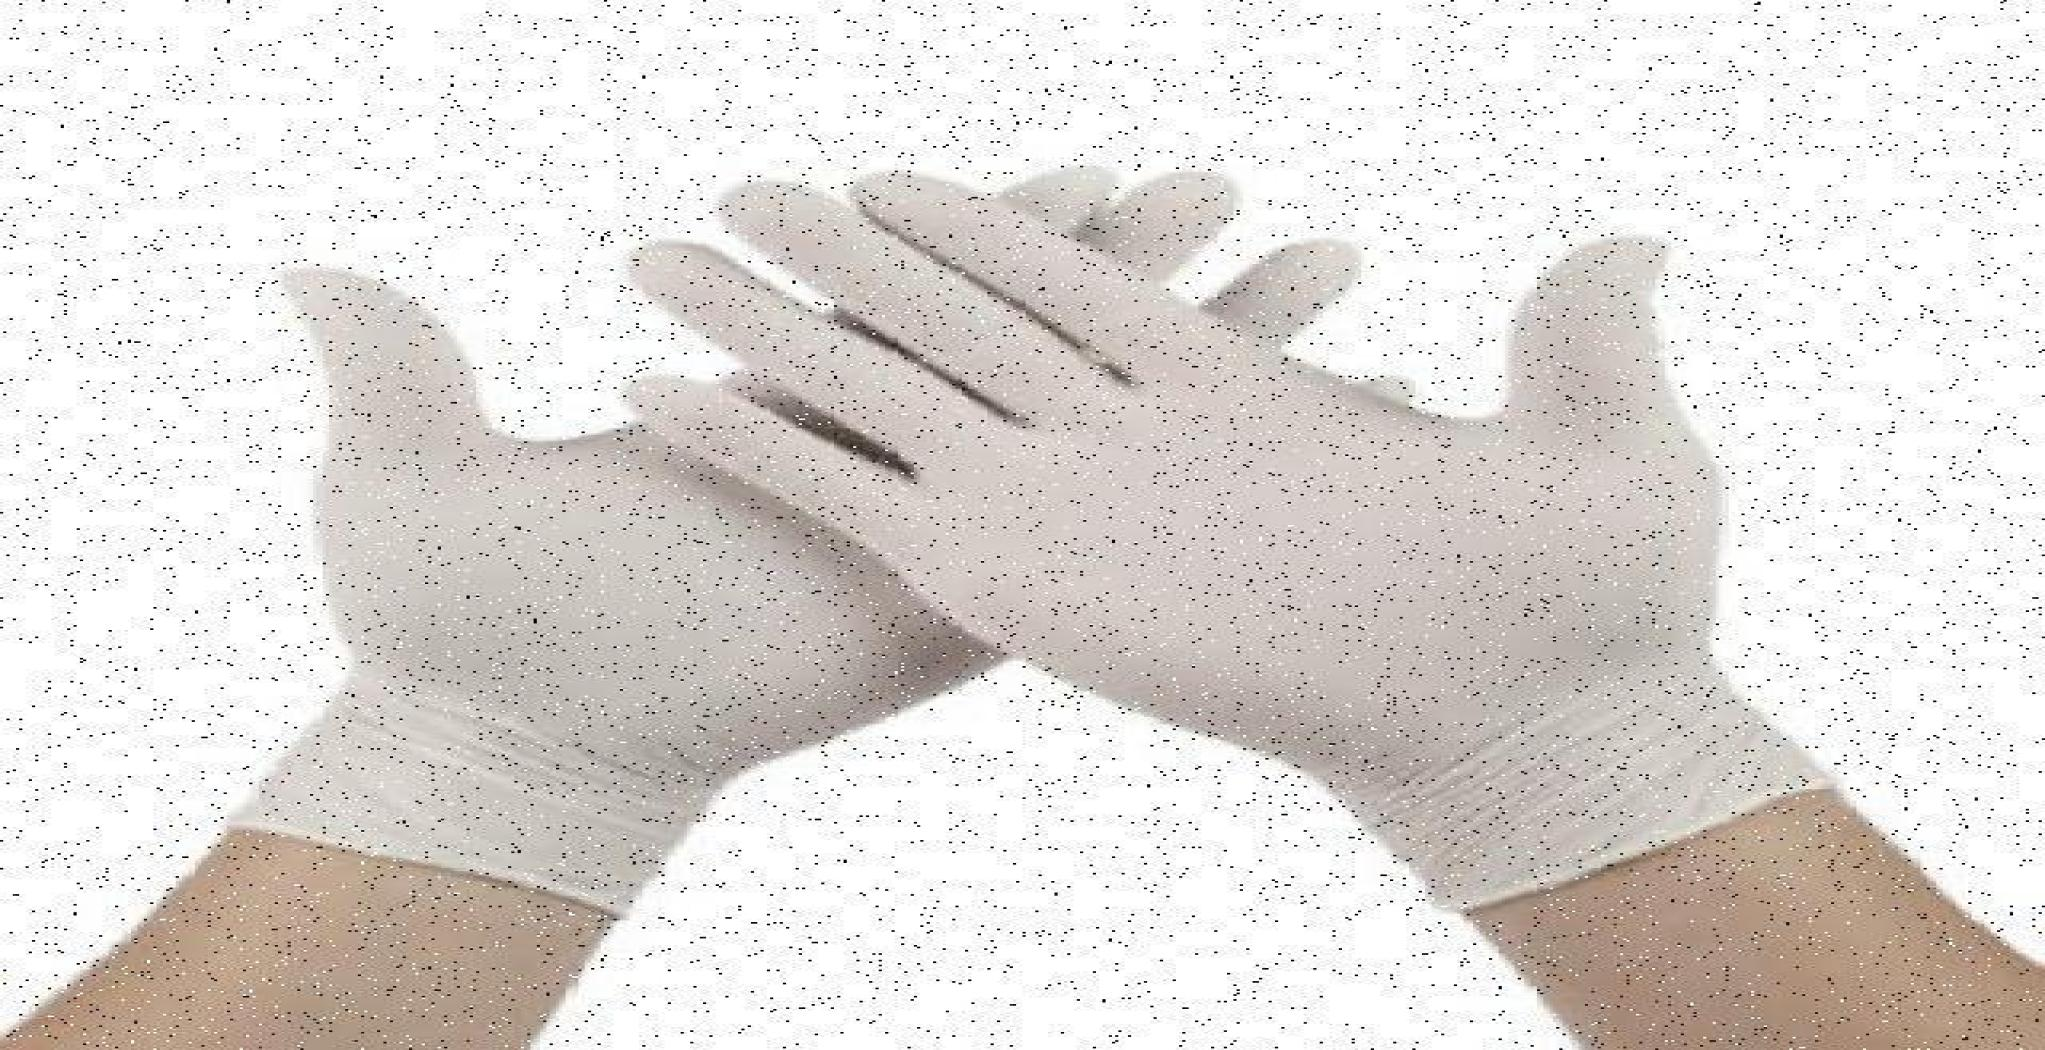gloved: (607, 181, 1865, 865), (348, 111, 1268, 883)
